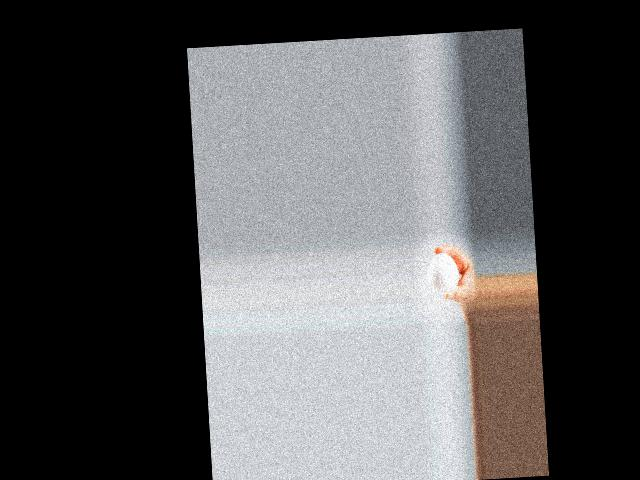egg: (426, 251, 460, 294)
